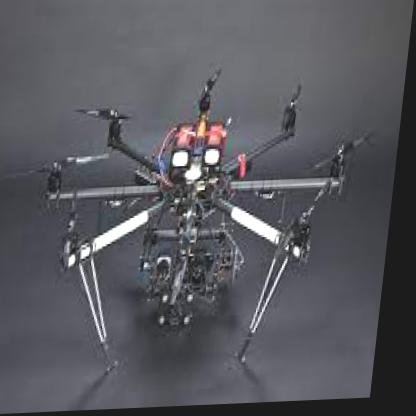UAS: (28, 65, 365, 375)
